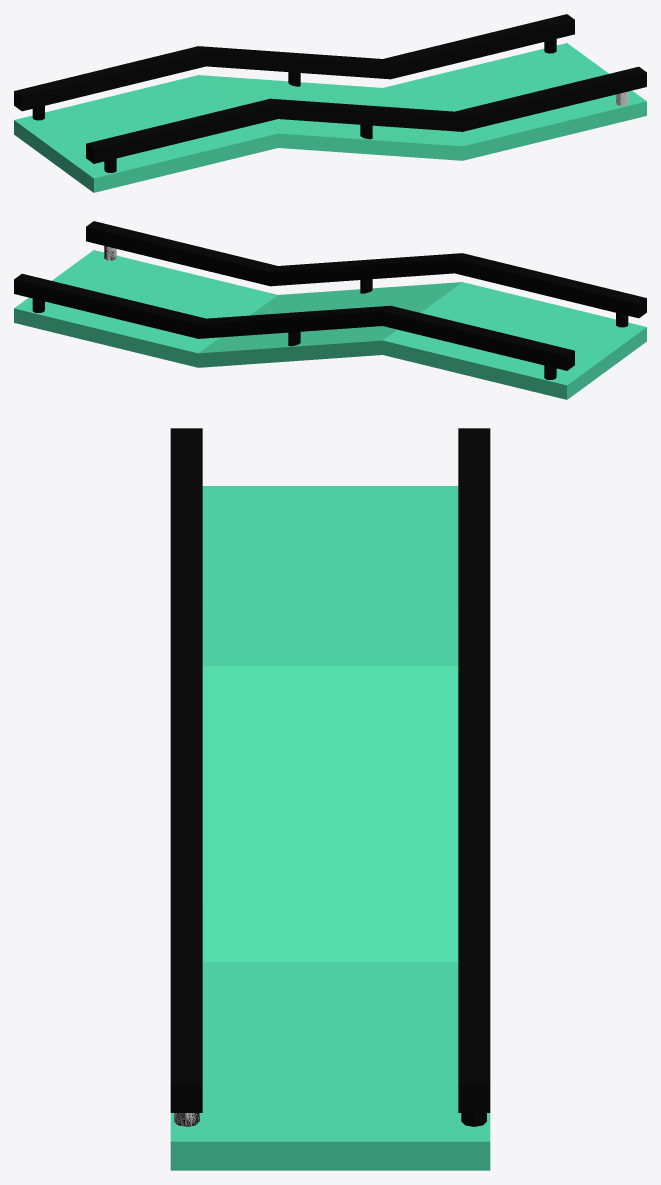
File: pont1.fbx
3 renders of one model, top to bottom at view 1: azimuth 30°, elevation 25°; view 2: azimuth 150°, elevation 25°; view 3: azimuth 270°, elevation 25°, orthographic. The views are drawn at different scales.
Parts seen in each view (by area): view 1: Cube, Cube.001, Cube.002, Cylindre.004, Cylindre.003; view 2: Cube, Cube.001, Cube.002, Cylindre.004, Cylindre.003; view 3: Cube, Cube.001, Cube.002.
Part boxes in pixels (x1,y1,x2,y2): Cube: (14,43,646,192); Cube.001: (14,14,574,111); Cube.002: (86,66,646,163); Cylindre.004: (288,72,372,139); Cylindre.003: (32,106,116,172); Cube: (14,250,646,399); Cube.001: (14,273,574,370); Cube.002: (86,221,646,318); Cylindre.004: (288,279,372,346); Cylindre.003: (544,313,628,379); Cube: (170,486,490,1170); Cube.001: (458,428,490,1112); Cube.002: (170,428,202,1112).
Bounding box in the file's own units: 2000 × 350 × 500.
